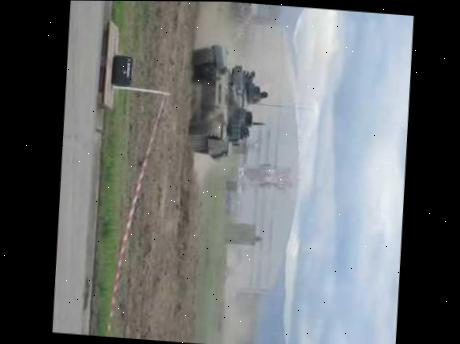tank: (184, 40, 272, 163)
